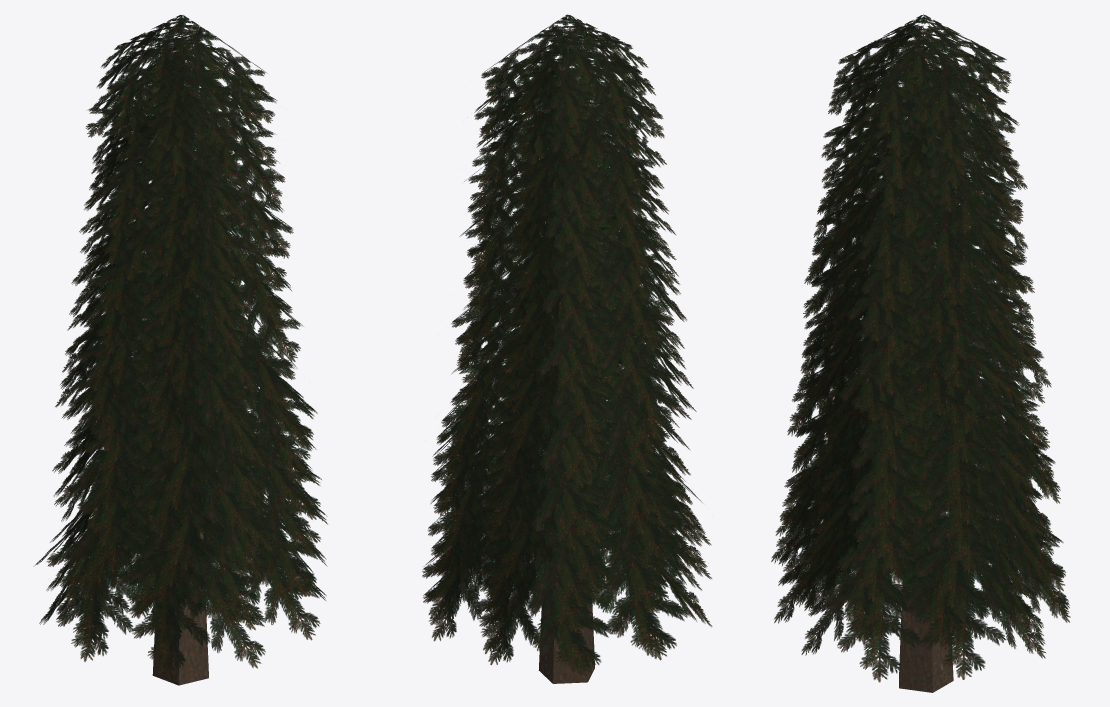
The model's file is pine_tree.glb.
3 views of the same model, side by side, from view 1: azimuth 30°, elevation 25°; view 2: azimuth 150°, elevation 25°; view 3: azimuth 270°, elevation 25° (orthographic).
Parts seen in each view (by area): view 1: Cone.001; view 2: Cone.001; view 3: Cone.001.
Boxes of the visible parts, x1,y1,x2,y2 form: Cone.001: (33, 15, 327, 685); Cone.001: (422, 14, 712, 683); Cone.001: (771, 14, 1070, 692).
Bounding box in the file's own units: 5.59 × 12.2 × 5.71.
2 materials, 2 textured.
